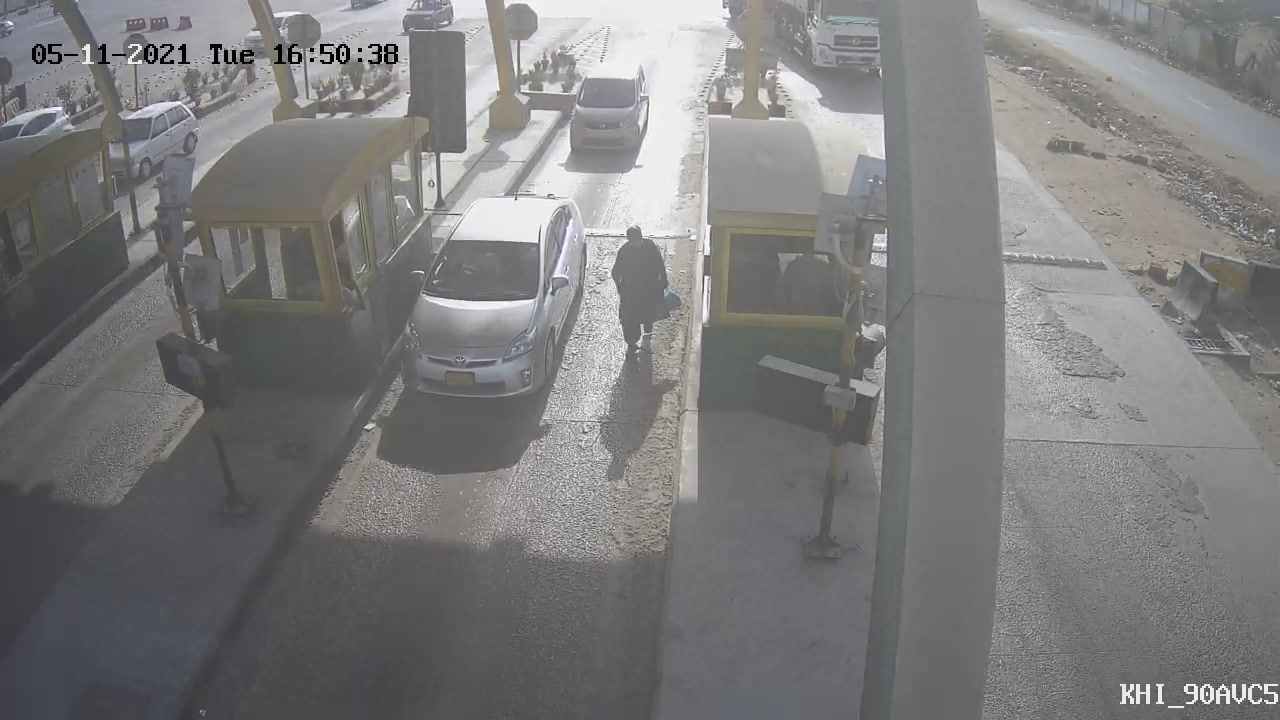F1: (386, 178, 605, 430), (546, 46, 676, 185)
